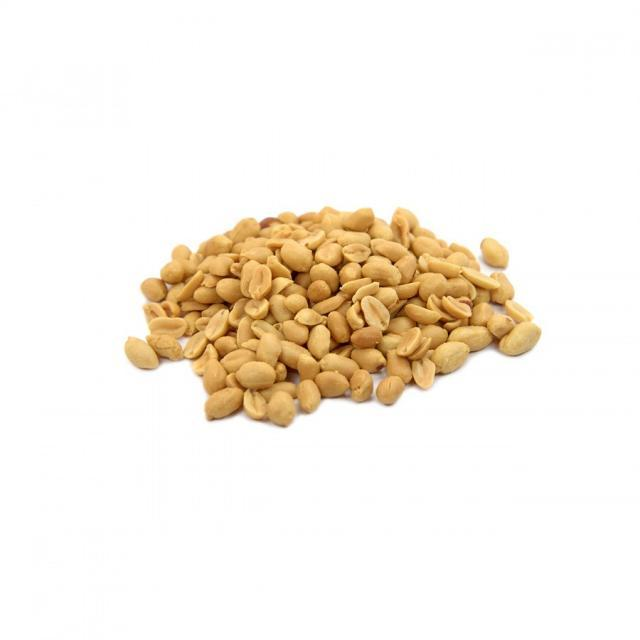Frutta secca: (121, 204, 543, 418)
